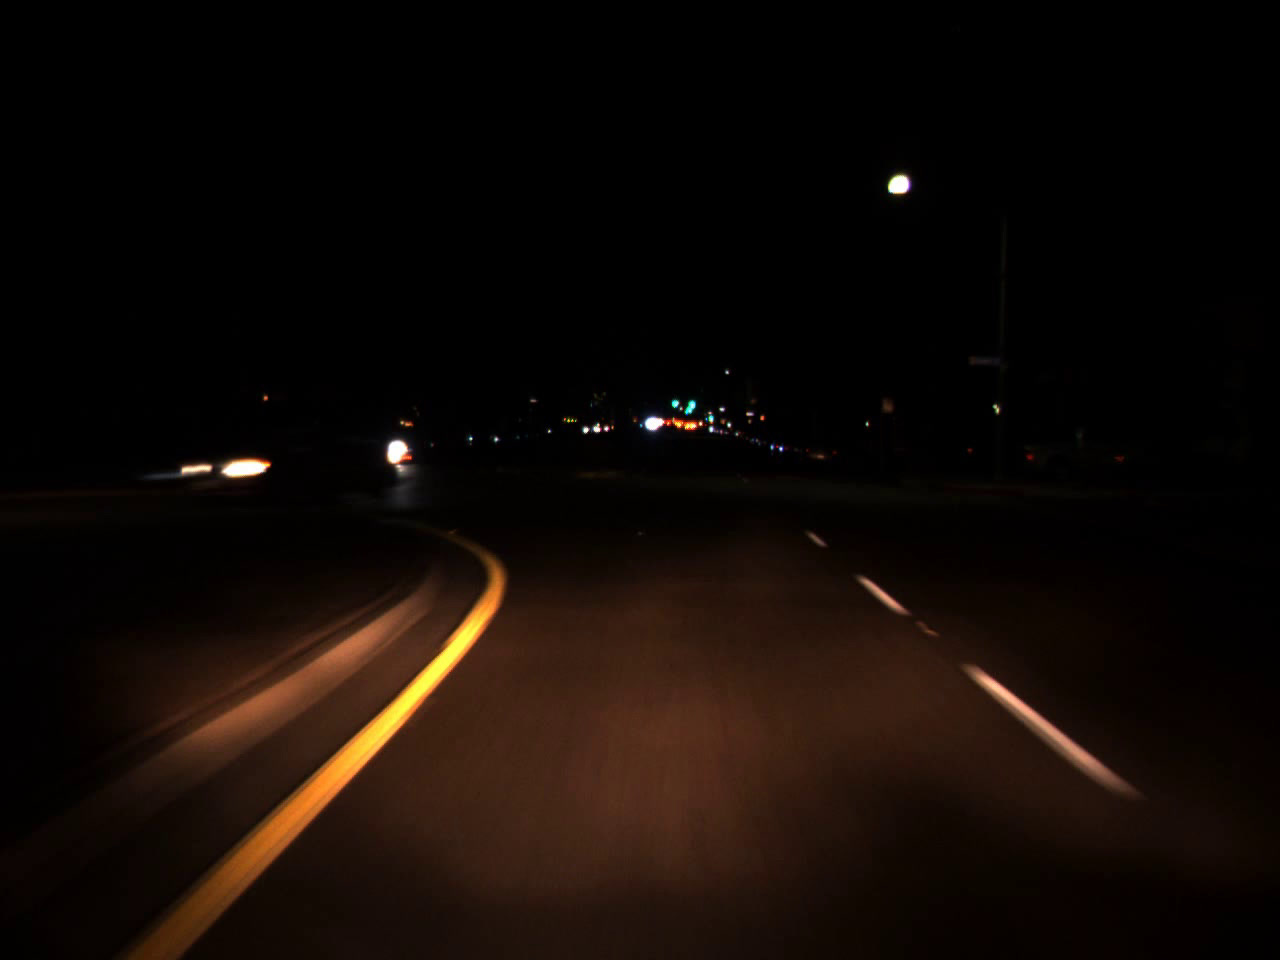go: (684, 386, 698, 413), (669, 389, 679, 410), (703, 407, 716, 422)
